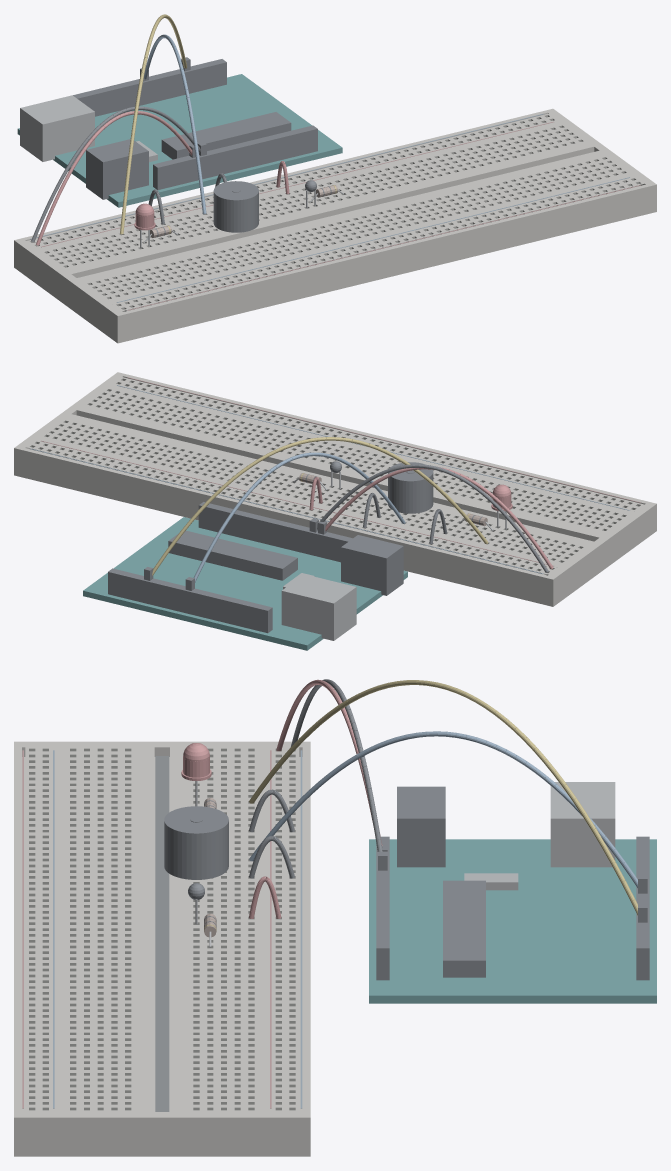
File: step-12.glb
3 views of the same model, one above another, from view 1: azimuth 30°, elevation 25°; view 2: azimuth 150°, elevation 25°; view 3: azimuth 270°, elevation 25° (orthographic). The views are drawn at different scales.
Visible parts, largest first — view 1: breadboard_1__mesh, arduino_uno__mesh, buzzer_1__mesh, wire_led_sig__mesh, wire_main_gnd__mesh, wire_main_5v__mesh, wire_buzzer_sig__mesh, led_red__mesh; view 2: breadboard_1__mesh, arduino_uno__mesh, wire_led_sig__mesh, buzzer_1__mesh, wire_buzzer_sig__mesh, wire_main_gnd__mesh, wire_main_5v__mesh, led_red__mesh; view 3: breadboard_1__mesh, arduino_uno__mesh, buzzer_1__mesh, wire_led_sig__mesh, wire_buzzer_sig__mesh, wire_main_gnd__mesh, led_red__mesh, wire_main_5v__mesh.
Boxes of the visible parts, box(x1,y1,x2,y2) form: breadboard_1__mesh: box(14, 108, 656, 343); arduino_uno__mesh: box(17, 59, 342, 207); buzzer_1__mesh: box(213, 181, 258, 232); wire_led_sig__mesh: box(120, 14, 190, 234); wire_main_gnd__mesh: box(31, 106, 206, 242); wire_main_5v__mesh: box(36, 111, 198, 245); wire_buzzer_sig__mesh: box(140, 34, 206, 214); led_red__mesh: box(134, 203, 155, 248); breadboard_1__mesh: box(14, 372, 656, 606); arduino_uno__mesh: box(83, 502, 407, 650); wire_led_sig__mesh: box(144, 437, 488, 580); buzzer_1__mesh: box(388, 462, 433, 513); wire_buzzer_sig__mesh: box(185, 452, 405, 590); wire_main_gnd__mesh: box(309, 464, 548, 572); wire_main_5v__mesh: box(318, 466, 553, 569); led_red__mesh: box(491, 484, 512, 529); breadboard_1__mesh: box(14, 741, 310, 1156); arduino_uno__mesh: box(369, 782, 656, 1003); buzzer_1__mesh: box(164, 806, 228, 879); wire_led_sig__mesh: box(249, 680, 647, 922); wire_buzzer_sig__mesh: box(249, 731, 647, 893); wire_main_gnd__mesh: box(291, 679, 387, 870); led_red__mesh: box(181, 743, 211, 806); wire_main_5v__mesh: box(276, 679, 387, 851).
Bounding box in the file's own units: 0.165 × 0.0463 × 0.1192.
